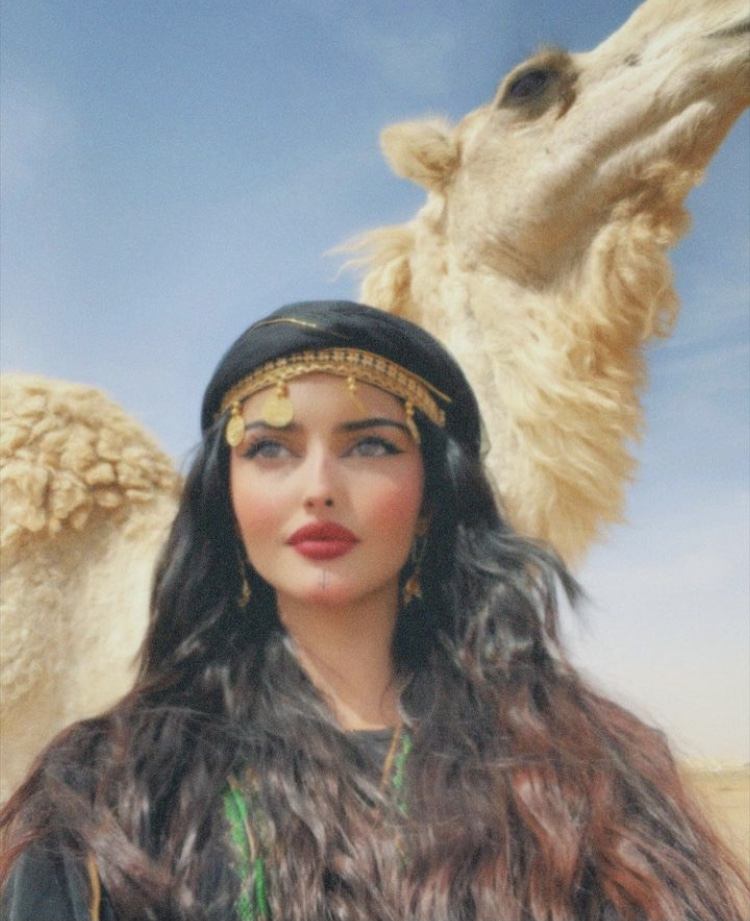Saudi_Founding_Day: (1, 297, 750, 921)
